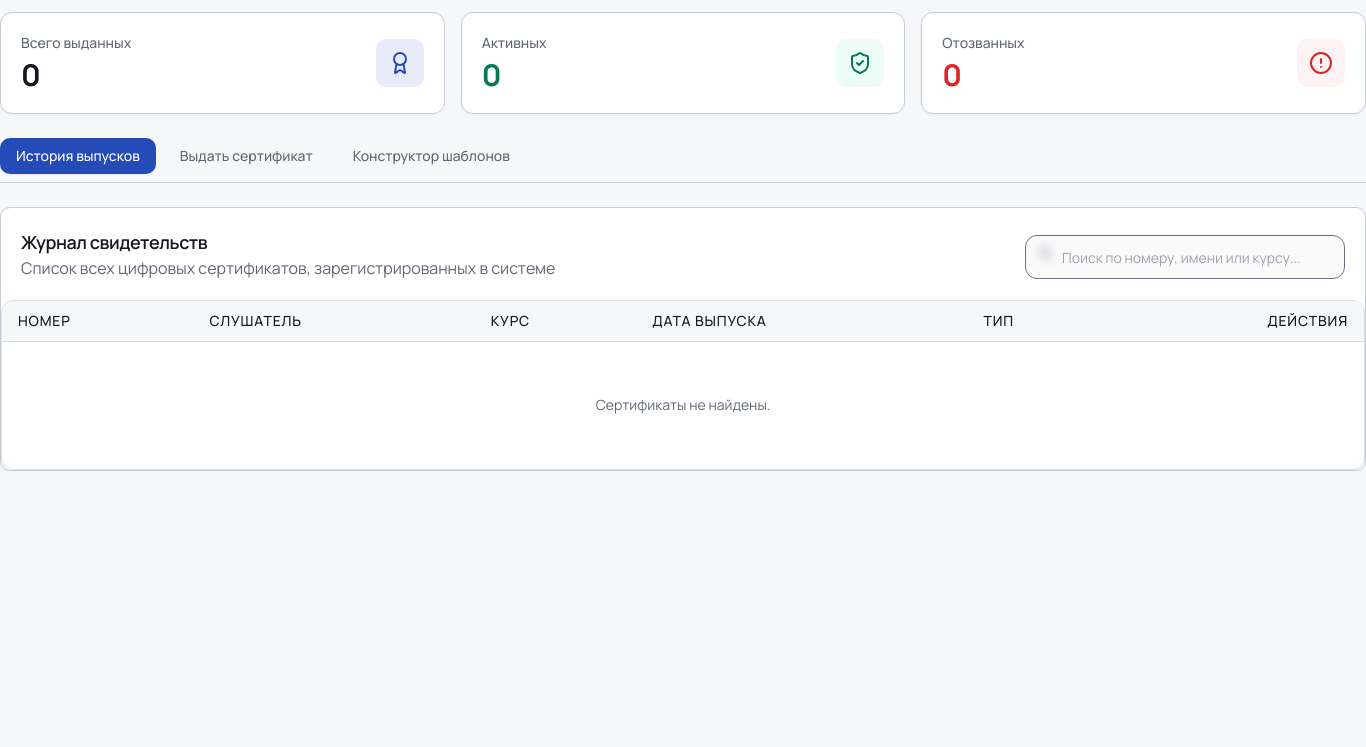
Test: CertificatesDashboard › shows controlled certificate API errors from the standard error envelope
This screenshot has width=1366, height=747.
Click the button "Выдать сертификат".
click(246, 156)  # box [164,138,329,174]
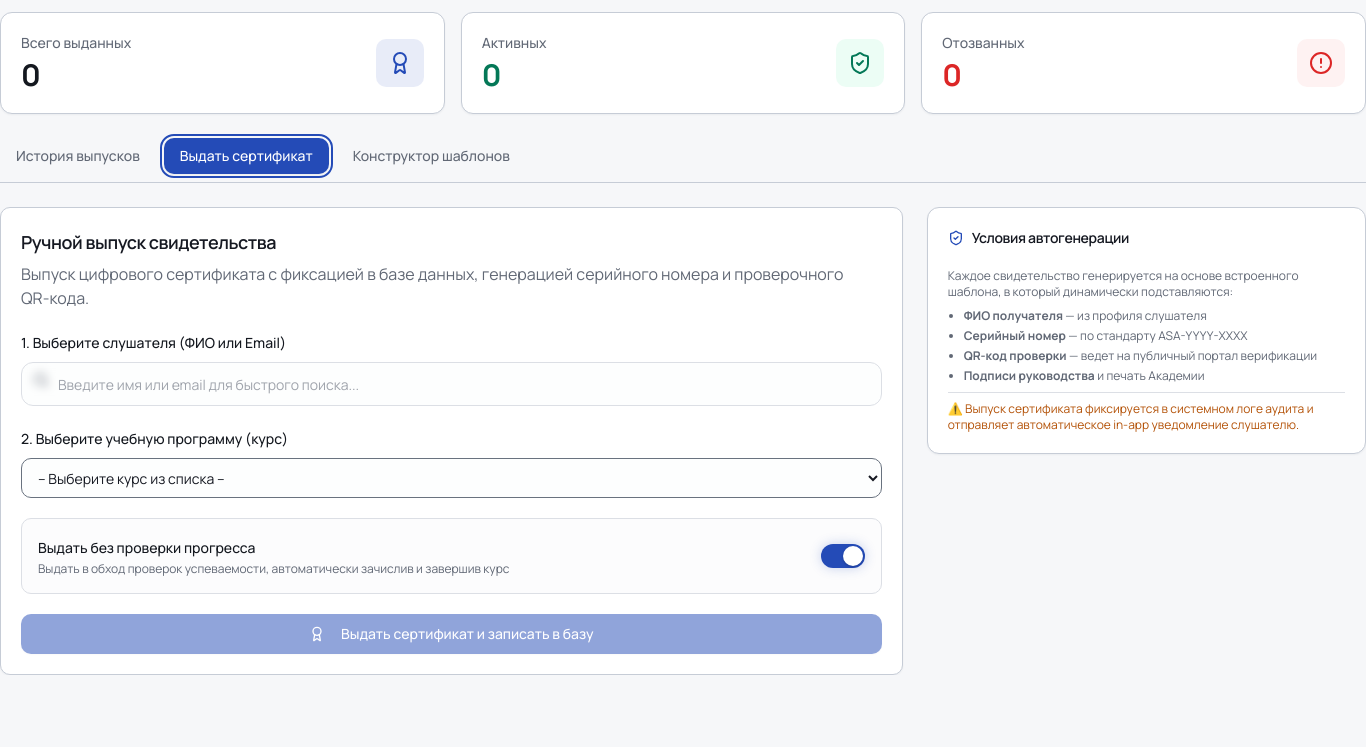
Type "Иван" into the field labelled "1. Выберите слушателя (ФИО или Email)".
click(451, 384); type("Иван")  # box [21,362,882,406]
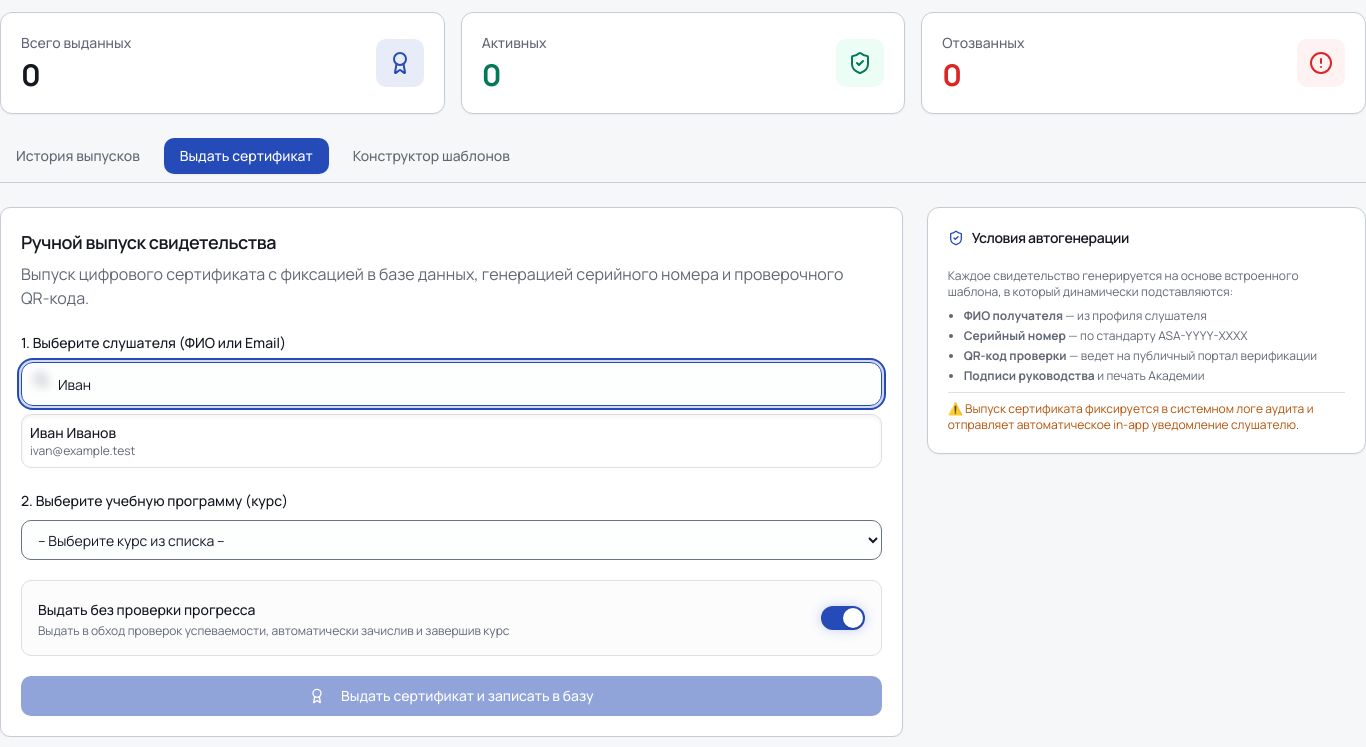
Click the text "Иван Иванов".
click(73, 432)  # box [30,423,116,442]
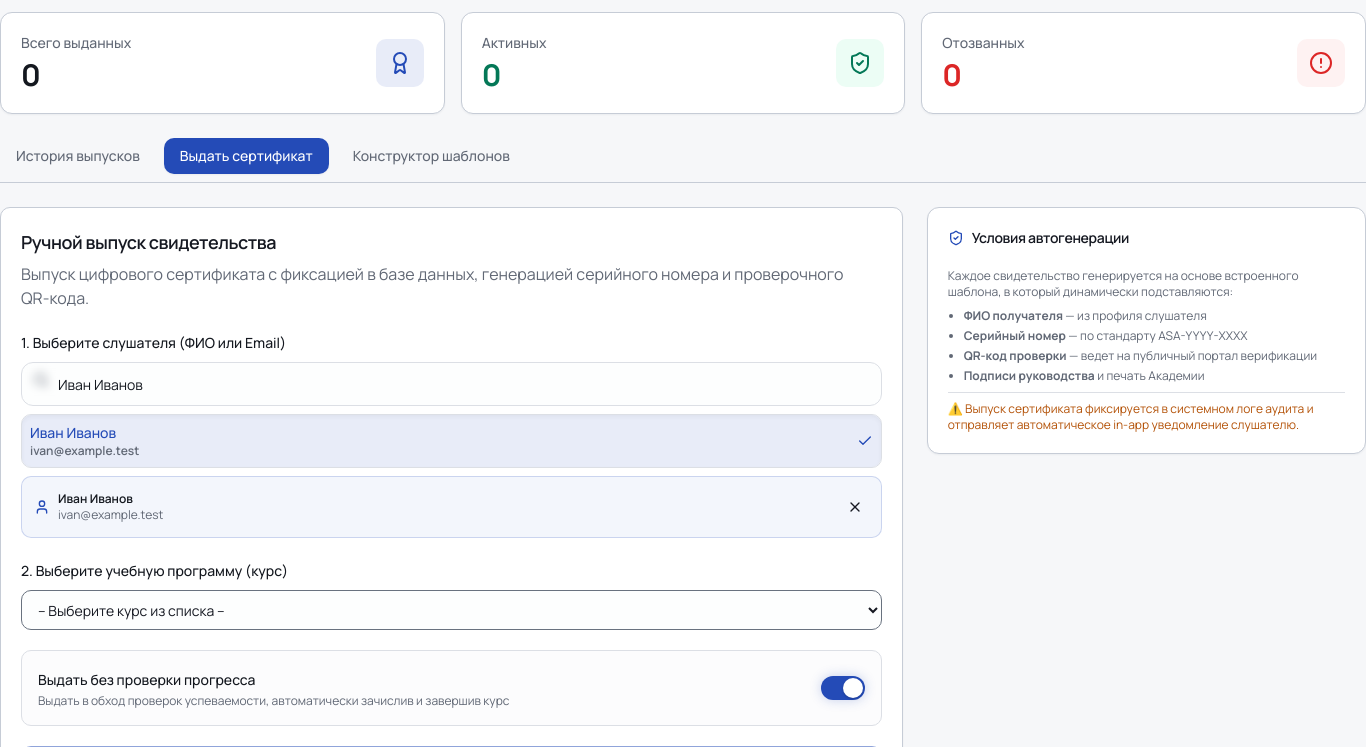
Select "Стратегический курс" in the dropdown labelled "2. Выберите учебную программу (курс)" at x=451, y=610, box [21,590,882,630]
(page scrolled)
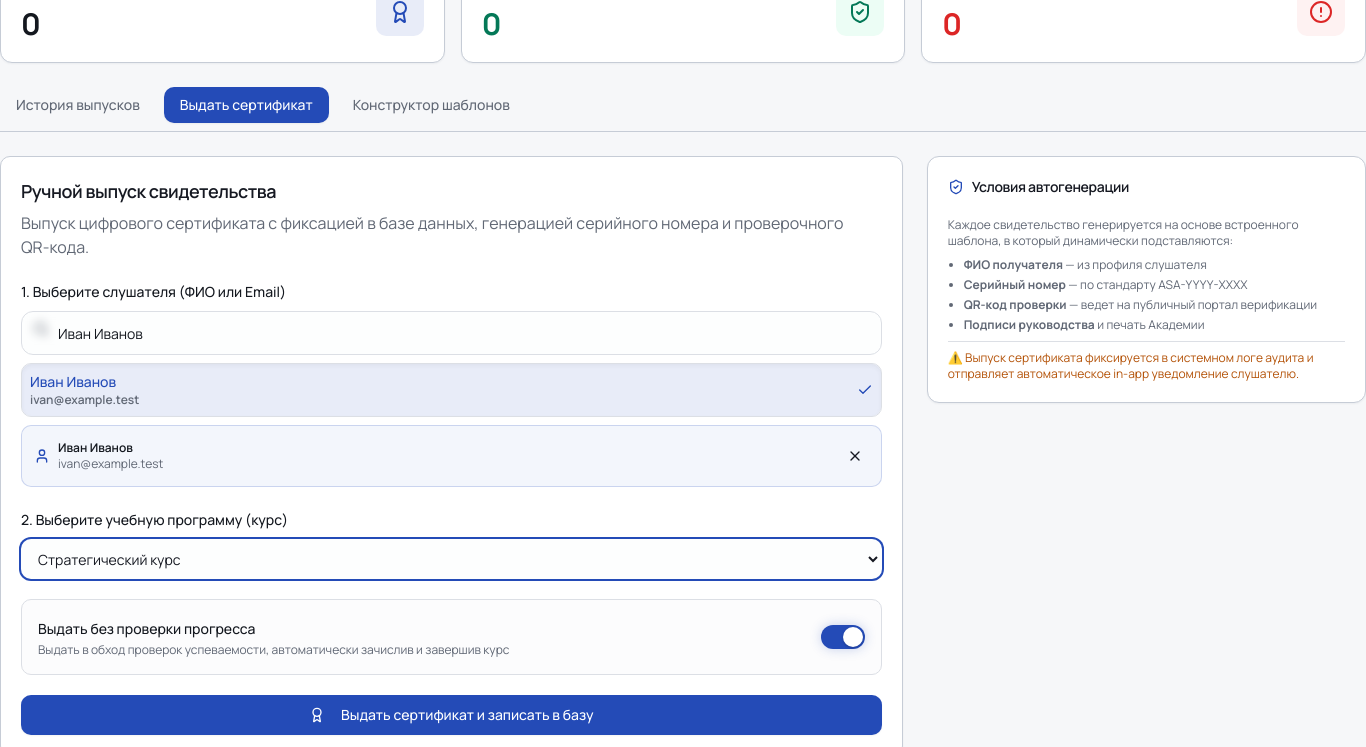
Click the button "Выдать сертификат и записать в базу".
click(451, 715)  # box [21,695,882,735]
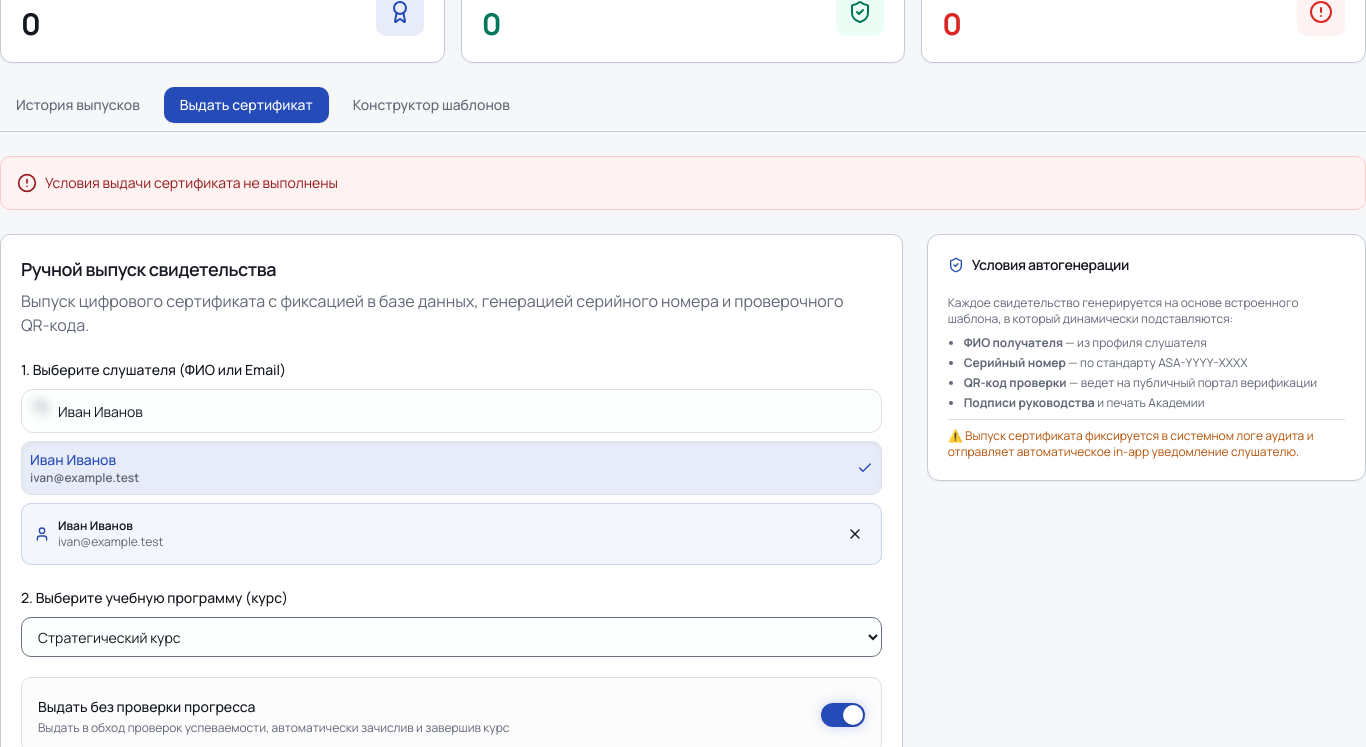
Expected: the text "Условия выдачи сертификата не выполнены" is shown, [45,173,338,193]
